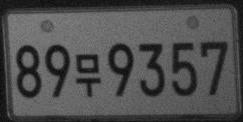3: (138, 42, 164, 97)
5: (171, 41, 197, 97)
7: (200, 41, 228, 95)
8: (14, 44, 41, 99)
9: (107, 42, 134, 97), (45, 44, 70, 98)
무: (75, 53, 101, 97)
